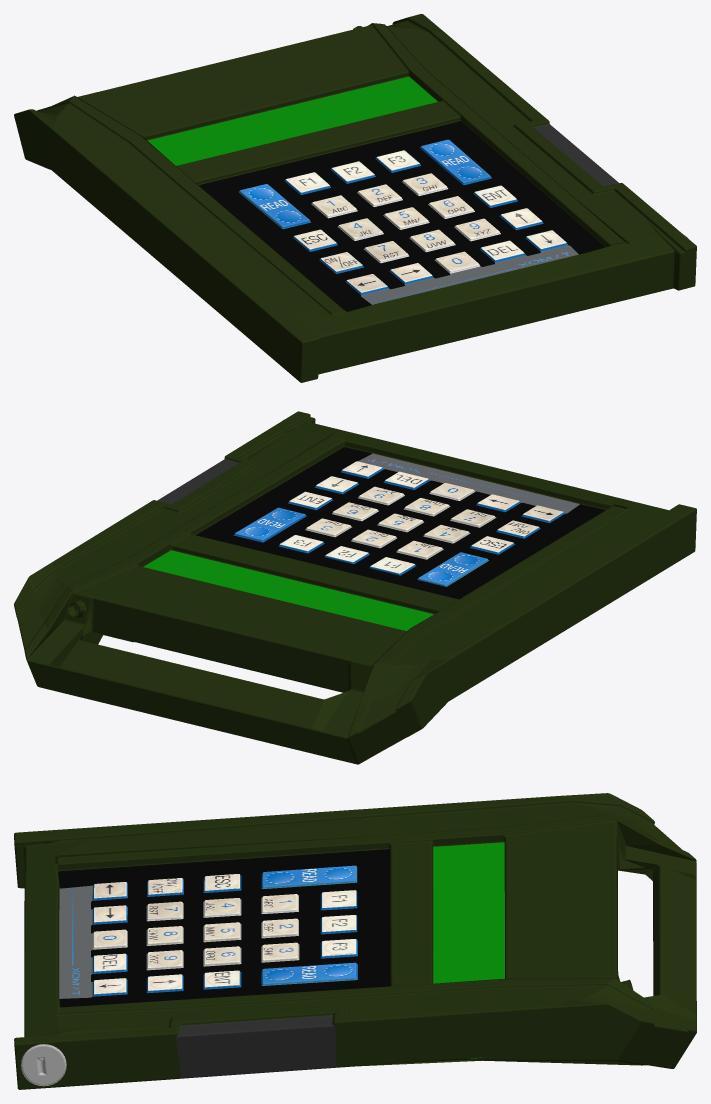
Rendered from xomt.glb.
The picture shows the model from 3 angles, top to bottom: view 1: azimuth 30°, elevation 25°; view 2: azimuth 150°, elevation 25°; view 3: azimuth 270°, elevation 25°; orthographic projection. The views are drawn at different scales.
Parts seen in each view (by area): view 1: Plane.001; view 2: Plane.001; view 3: Plane.001.
Part boxes in pixels (x1,y1,x2,y2): Plane.001: [14, 14, 696, 382]; Plane.001: [14, 411, 696, 764]; Plane.001: [14, 793, 696, 1089].
Bounding box in the file's own units: 3.15 × 0.5915 × 4.23.
33 materials, 24 textured.
